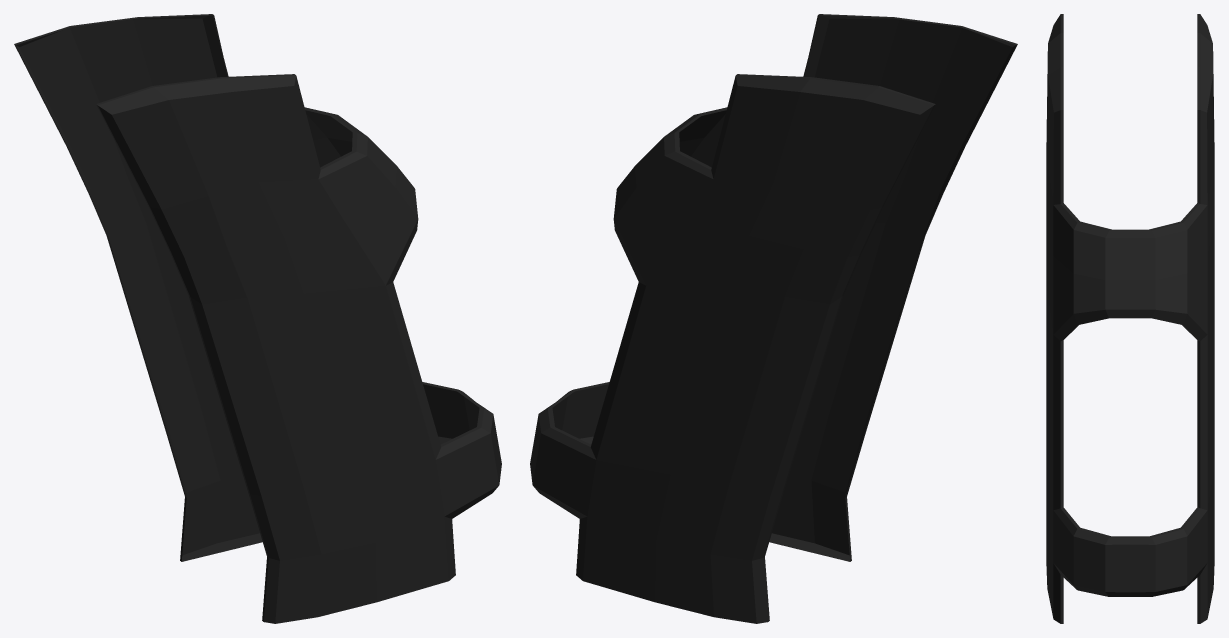
File: ZC57_Attachment_HandleV2.glb
3 views of the same model, side by side, from view 1: azimuth 30°, elevation 25°; view 2: azimuth 150°, elevation 25°; view 3: azimuth 270°, elevation 25° (orthographic). The views are drawn at different scales.
Visible parts, largest first — view 1: ZC57_Attachment_HandleV2; view 2: ZC57_Attachment_HandleV2; view 3: ZC57_Attachment_HandleV2.
Part boxes in pixels (x1,y1,x2,y2): ZC57_Attachment_HandleV2: (14,14,501,623); ZC57_Attachment_HandleV2: (530,14,1017,623); ZC57_Attachment_HandleV2: (1046,14,1214,623).
Bounding box in the file's own units: 0.073 × 0.0906 × 0.0295.
1 material, 1 textured.
